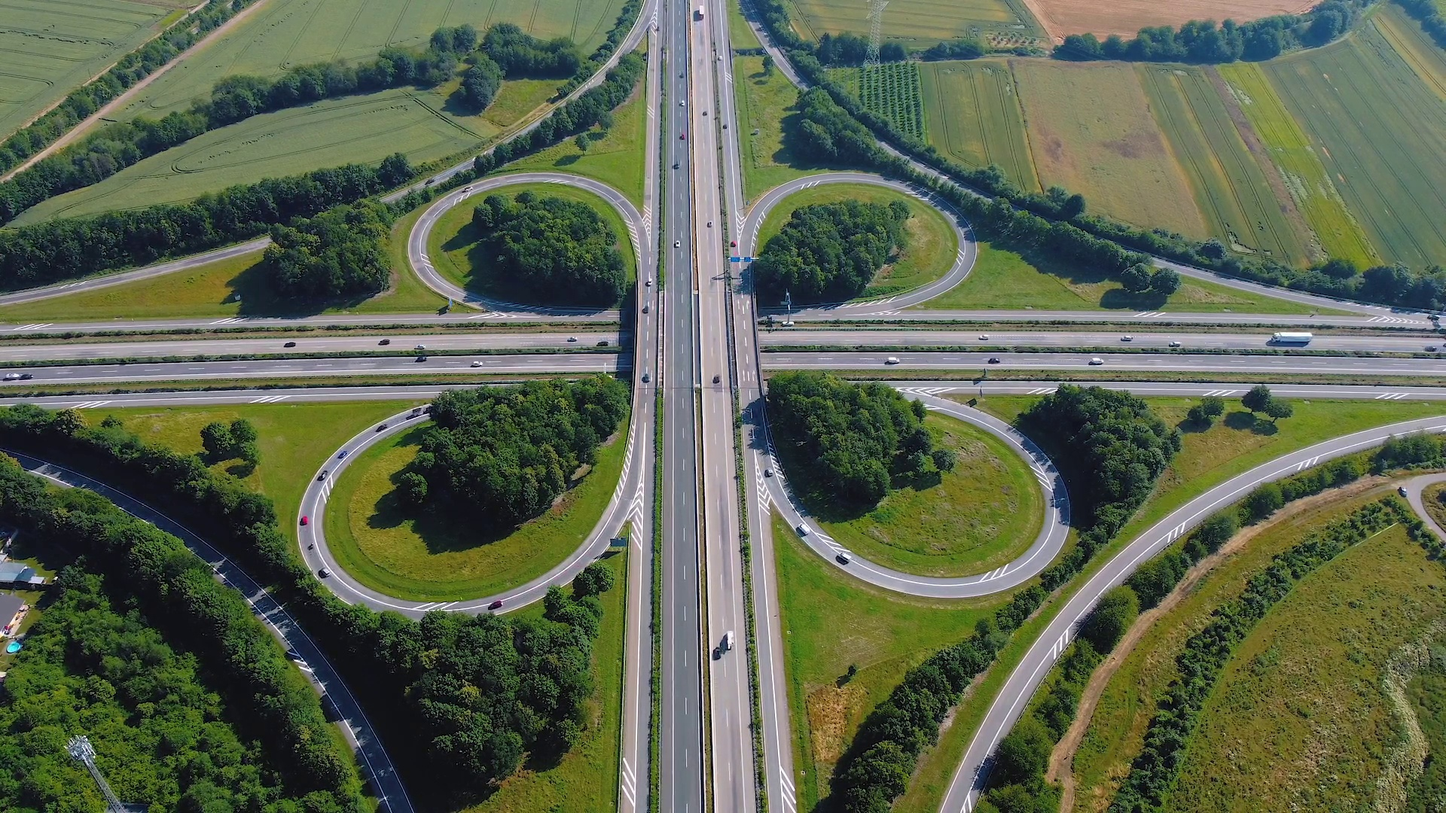Vehicle: (1270, 332, 1314, 343), (796, 519, 810, 537), (836, 551, 850, 564), (725, 630, 734, 649), (320, 565, 333, 578), (763, 464, 774, 479), (3, 373, 22, 381), (488, 600, 503, 610), (1424, 343, 1438, 353), (1088, 358, 1104, 366), (884, 357, 900, 365), (1397, 486, 1407, 498), (714, 647, 722, 661), (712, 374, 721, 386), (19, 373, 34, 380), (699, 6, 706, 21), (319, 468, 327, 481), (375, 424, 387, 432), (341, 448, 349, 460), (301, 515, 310, 525), (1120, 336, 1134, 342), (679, 98, 686, 110), (706, 218, 713, 230), (596, 341, 609, 347), (283, 342, 296, 348), (781, 321, 794, 327), (988, 358, 1000, 364), (470, 361, 482, 367), (415, 356, 427, 362), (378, 339, 390, 345), (1169, 341, 1181, 347), (675, 238, 681, 250), (644, 372, 650, 384), (647, 276, 654, 286), (415, 344, 426, 350), (978, 335, 989, 341), (730, 239, 736, 250), (463, 187, 474, 193), (1427, 315, 1440, 320), (1169, 342, 1181, 347), (644, 304, 650, 314), (567, 337, 577, 342), (675, 159, 680, 169), (681, 132, 685, 140), (718, 55, 723, 59)
